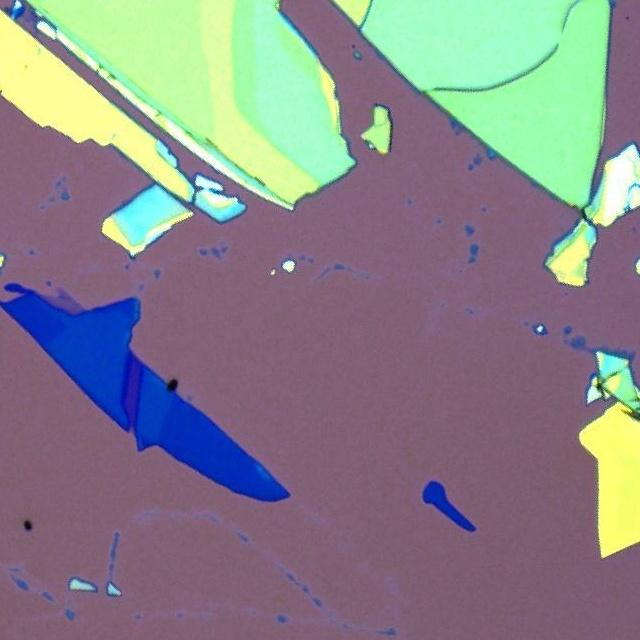monolayer-eWW4: (42, 285, 86, 316)
